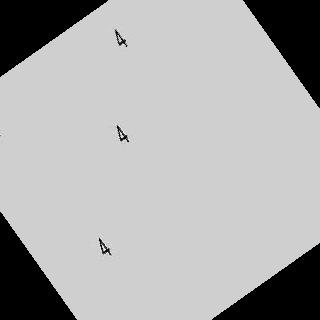four: (112, 116, 133, 150), (108, 27, 134, 54), (91, 234, 115, 263)
